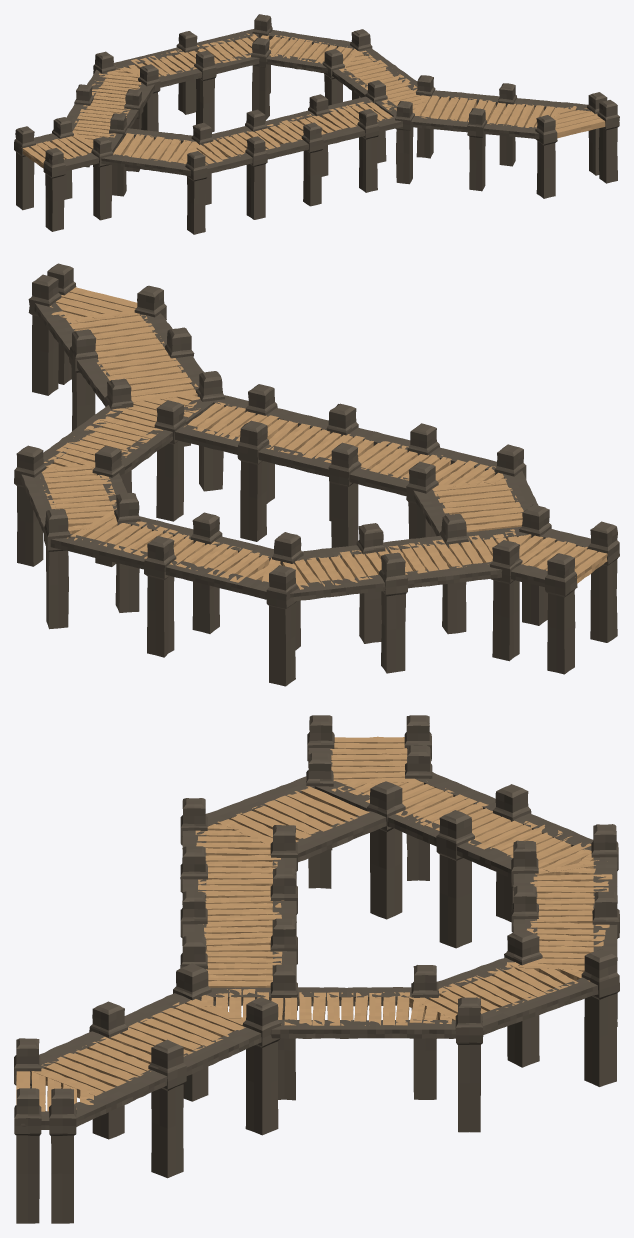
Rendered from Bridge.fbx.
The picture shows the model from 3 angles, top to bottom: view 1: azimuth 30°, elevation 25°; view 2: azimuth 150°, elevation 25°; view 3: azimuth 270°, elevation 25°; orthographic projection. The views are drawn at different scales.
Parts seen in each view (by area): view 1: Bridge; view 2: Bridge; view 3: Bridge.
Part boxes in pixels (<box>): Bridge: <box>14,14,619,234</box>; Bridge: <box>14,263,619,686</box>; Bridge: <box>14,715,619,1223</box>.
Bounding box in the file's own units: 7546 × 1170 × 5023.
